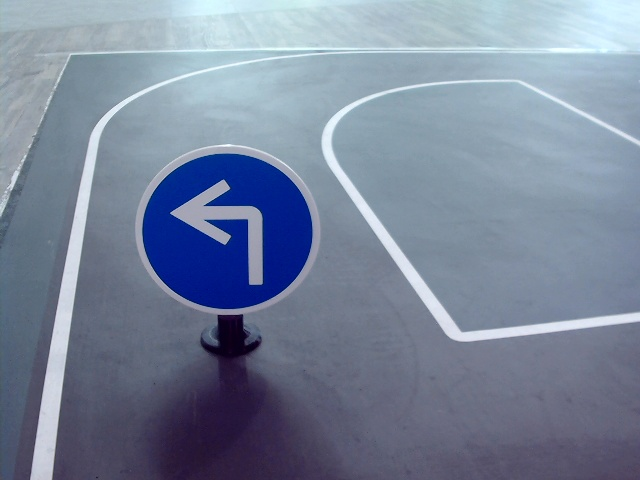turn_left: (176, 180, 270, 284)
